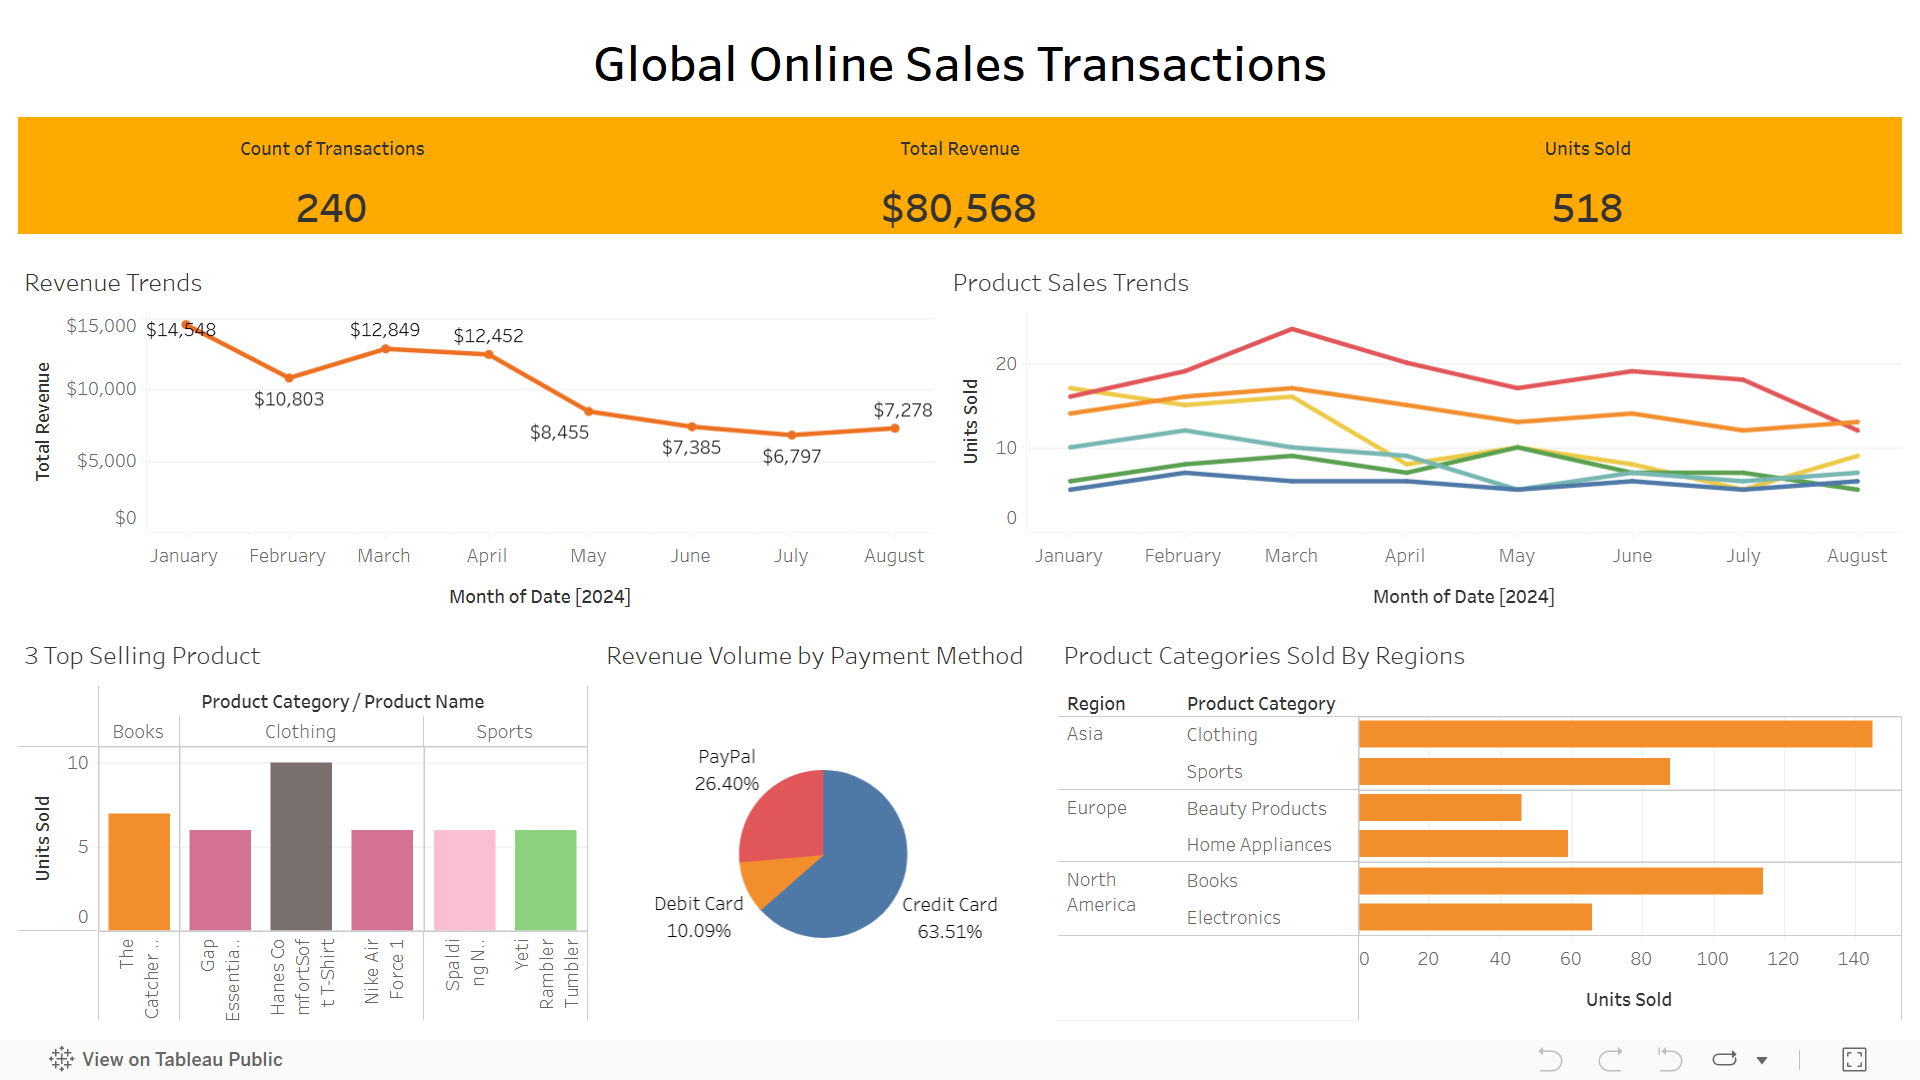

This screenshot's page, from the dashboard's own definition file:
{"tool":"tableau","page":{"name":"Dashboard 1","canvas":[1000,1000],"units":"permille","ordinal":0},"visuals":[{"type":"title","box":[5,9.8,990,80.7]},{"type":"worksheet","title":"Sheet 5","mark":"Automatic","box":[5,90.5,990,135.9]},{"type":"worksheet","title":"Sheet 1","mark":"Automatic","rows":["Total Revenue"],"cols":["Date"],"box":[5,226.4,485,366.5]},{"type":"worksheet","title":"Sheet 6","mark":"Automatic","rows":["Units Sold"],"cols":["Date"],"box":[490,226.4,505,366.5]},{"type":"worksheet","title":"Sheet 4","mark":"Automatic","rows":["Units Sold"],"cols":["Product Category","Product Name"],"box":[5,592.9,304.2,397.3]},{"type":"worksheet","title":"Sheet 3","mark":"Pie","box":[309.2,592.9,238.8,397.3]},{"type":"worksheet","title":"Sheet 2","mark":"Automatic","rows":["Region","Product Category"],"cols":["Units Sold"],"box":[548,592.9,447,397.3]}]}

Visuals, with their boxes on the dashboard's canvas, which has no fixed pixel size, in thousandths of its width and height (x1, y1, x2, y2). These are canvas units, not pixel positions in the 1920x1080 screenshot, which may show the page scaled, cropped or inside an application window:
title: region(5, 10, 995, 90)
"Sheet 5" worksheet: region(5, 90, 995, 226)
"Sheet 1" worksheet: region(5, 226, 490, 593)
"Sheet 6" worksheet: region(490, 226, 995, 593)
"Sheet 4" worksheet: region(5, 593, 309, 990)
"Sheet 3" worksheet (Pie marks): region(309, 593, 548, 990)
"Sheet 2" worksheet: region(548, 593, 995, 990)
